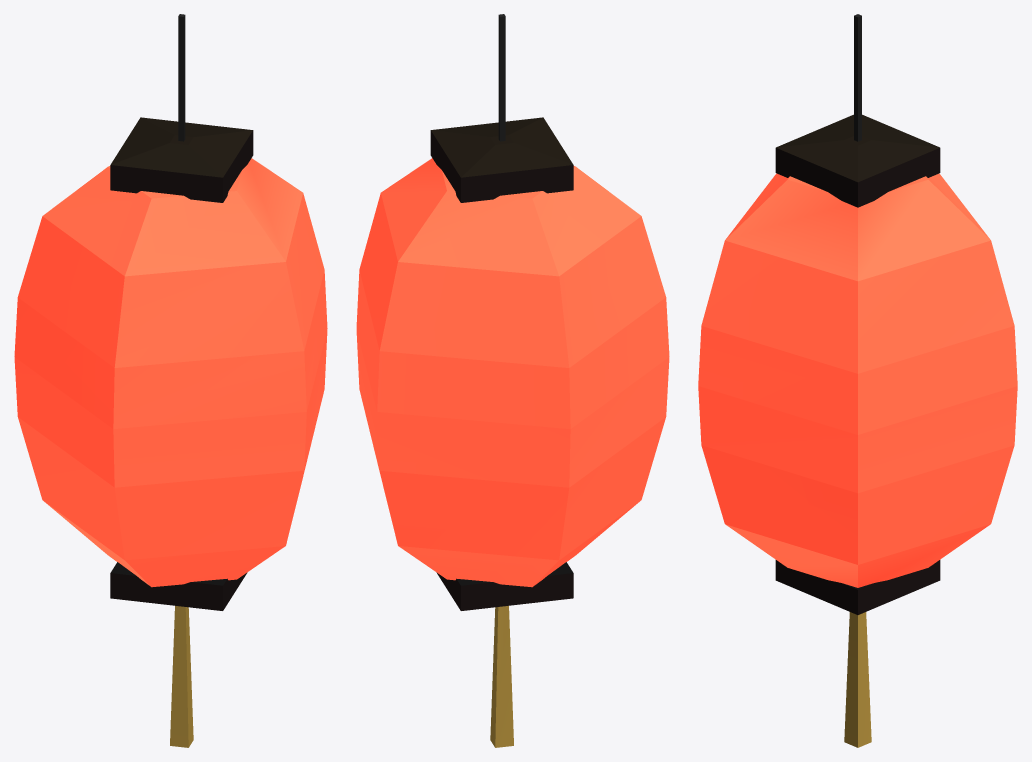
Rendered from tp_lantern_lo-V3RFqTs7.glb.
3 renders of one model, left to right at view 1: azimuth 30°, elevation 25°; view 2: azimuth 150°, elevation 25°; view 3: azimuth 270°, elevation 25°, orthographic.
Bounding box in the file's own units: 0.4429 × 1.17 × 0.4656.
